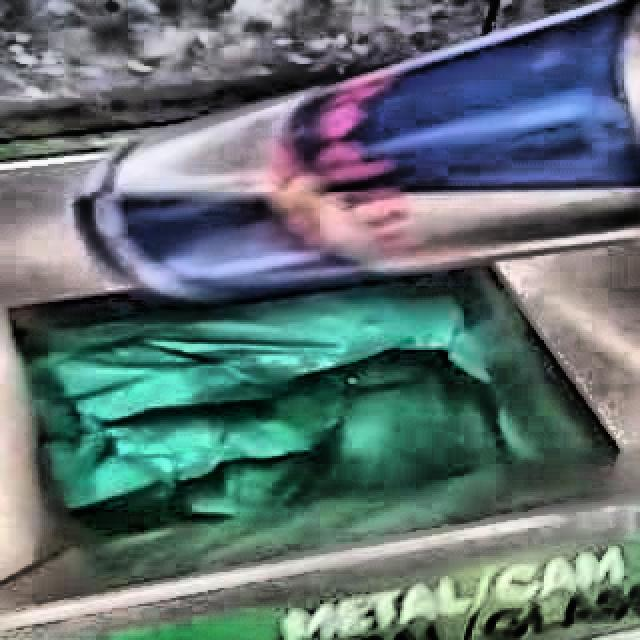metal: (83, 0, 640, 300)
